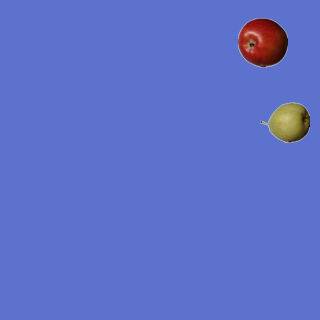Apple Braeburn: (237, 17, 287, 67)
Pear: (259, 97, 309, 147)
